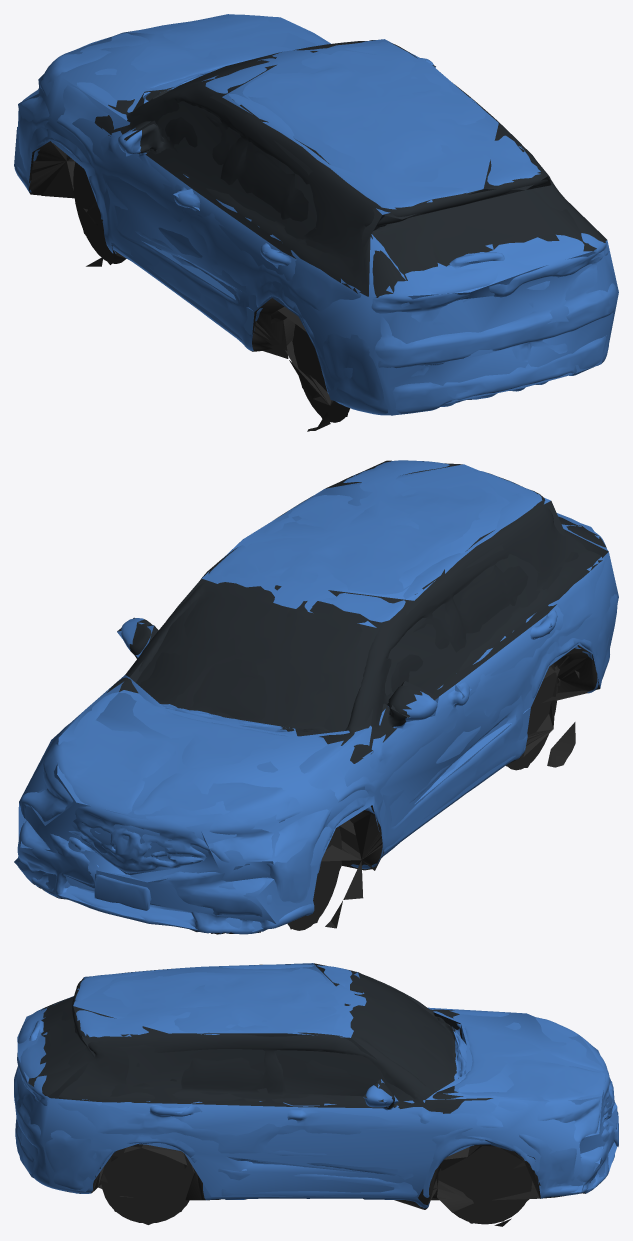
The model's file is acura-adx.glb.
The picture shows the model from 3 angles, top to bottom: view 1: azimuth 30°, elevation 25°; view 2: azimuth 150°, elevation 25°; view 3: azimuth 270°, elevation 25°; orthographic projection. The views are drawn at different scales.
Visible parts, largest first — view 1: body, far; view 2: body, far; view 3: body, far.
Part boxes in pixels (x1,y1,x2,y2): body: [14, 14, 616, 431]; far: [14, 14, 618, 419]; body: [17, 460, 617, 934]; far: [14, 460, 618, 931]; body: [14, 964, 618, 1226]; far: [15, 963, 618, 1224].
Size of the model in its own units: 2.19 by 1.68 by 4.78.
